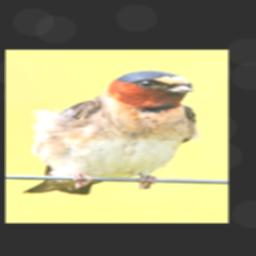Swallow: (22, 67, 207, 199)
